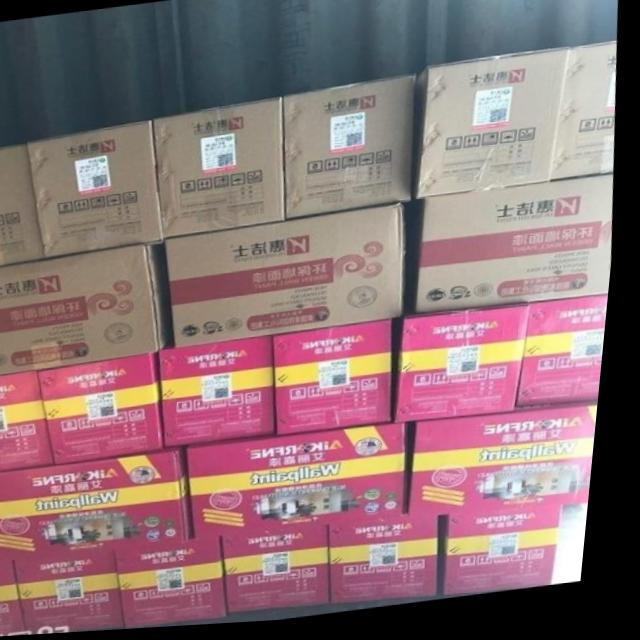box: (169, 208, 410, 350), (423, 181, 617, 319), (195, 428, 416, 541), (418, 52, 572, 204), (0, 449, 203, 562), (0, 246, 174, 376), (419, 408, 607, 519), (29, 121, 168, 259), (285, 78, 418, 222), (156, 100, 290, 241), (401, 310, 537, 429), (45, 355, 174, 465), (279, 323, 399, 438), (166, 339, 285, 450), (454, 512, 573, 602), (125, 540, 239, 630), (338, 519, 451, 608), (525, 302, 615, 413), (233, 529, 343, 616), (25, 551, 136, 636), (554, 47, 617, 187), (0, 371, 64, 473), (0, 144, 50, 266), (0, 560, 39, 638)
